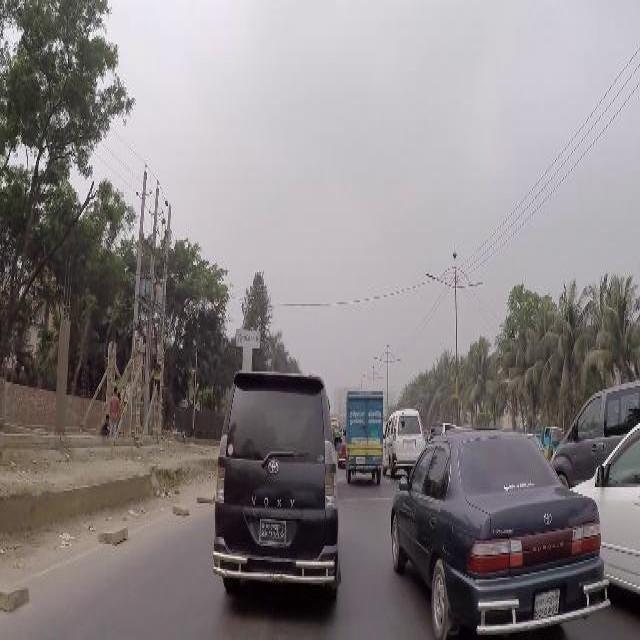vehicle: (389, 421, 612, 626), (217, 358, 346, 611), (571, 423, 640, 596), (553, 382, 640, 492), (346, 384, 385, 489), (386, 406, 429, 481), (532, 411, 562, 452)
